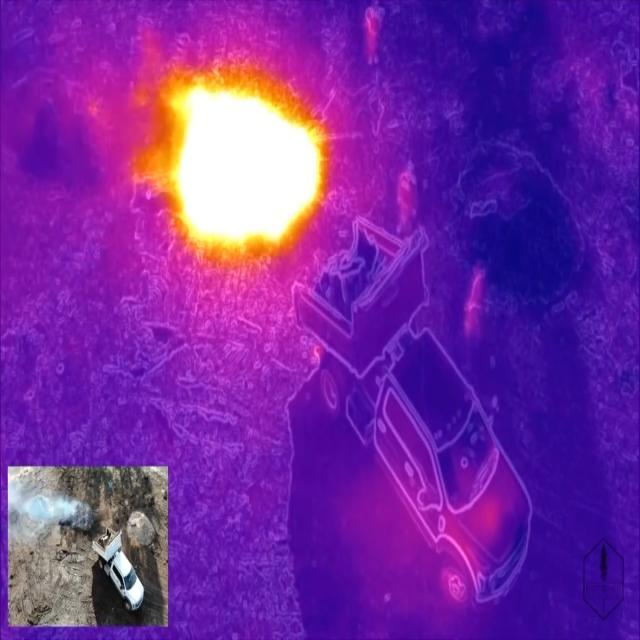fire: (149, 70, 328, 265)
